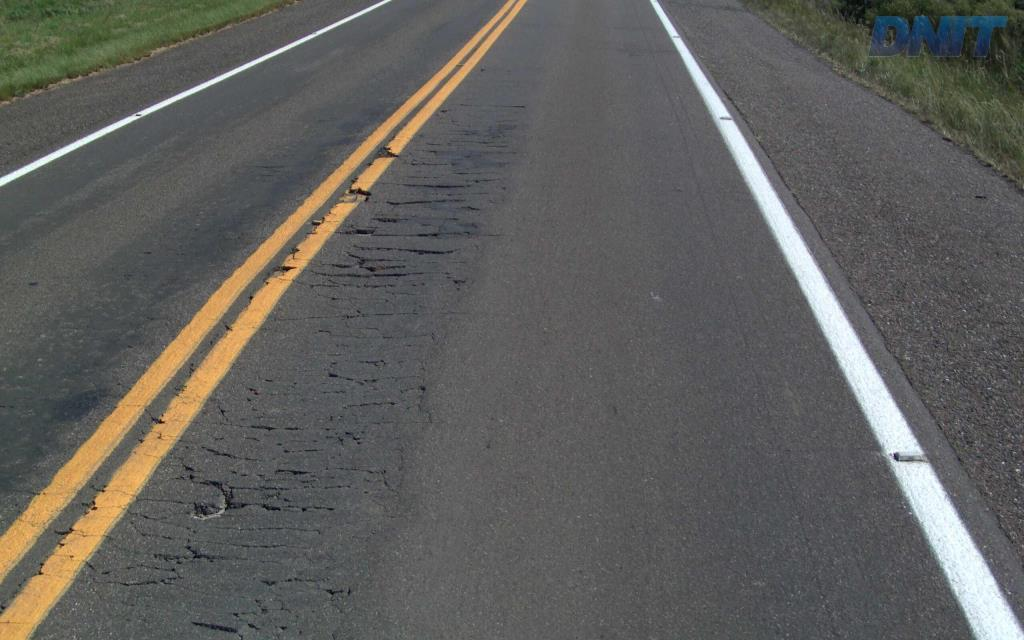crack: (171, 456, 335, 520), (310, 251, 424, 288), (152, 533, 248, 568), (334, 217, 480, 239), (107, 563, 184, 588), (256, 468, 323, 488), (352, 244, 460, 255), (173, 500, 222, 521)
